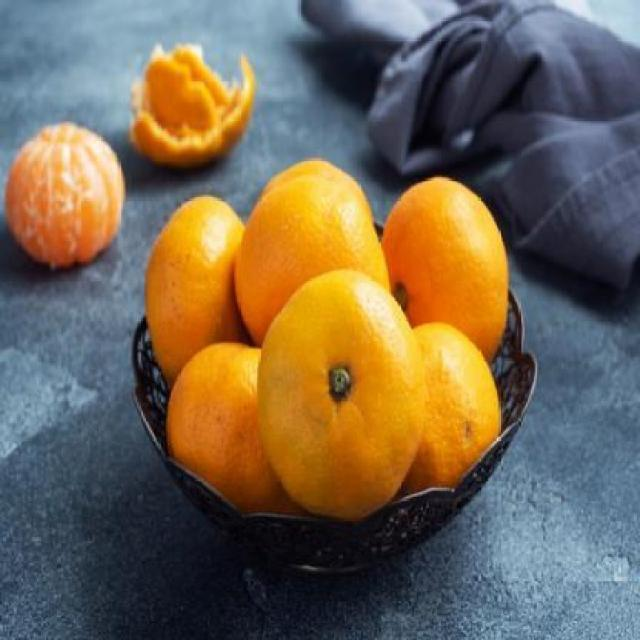Jeruk Sudah Matang: (260, 270, 426, 510), (238, 157, 388, 360), (374, 171, 508, 367), (143, 194, 277, 388), (172, 343, 302, 531), (382, 322, 504, 484)
